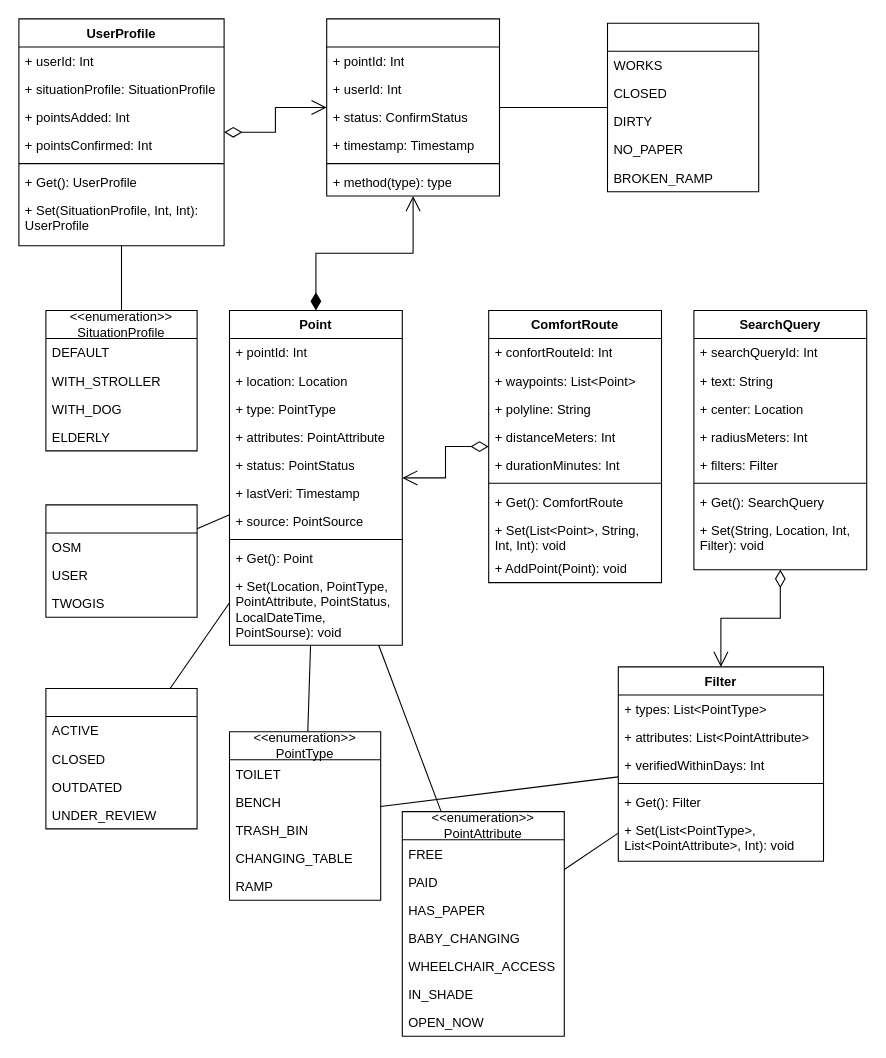
Image size: 886x1058. Some labels were removed from this diagram. Each missing label, with the box of its shape:
<<enumeration>> ConfirmStatus: (606, 22, 759, 192)
<<enumeration>> PointSourse: (45, 504, 197, 617)
<<enumeration>> PointStatus: (45, 687, 197, 829)
Confirmation: (326, 18, 500, 196)
